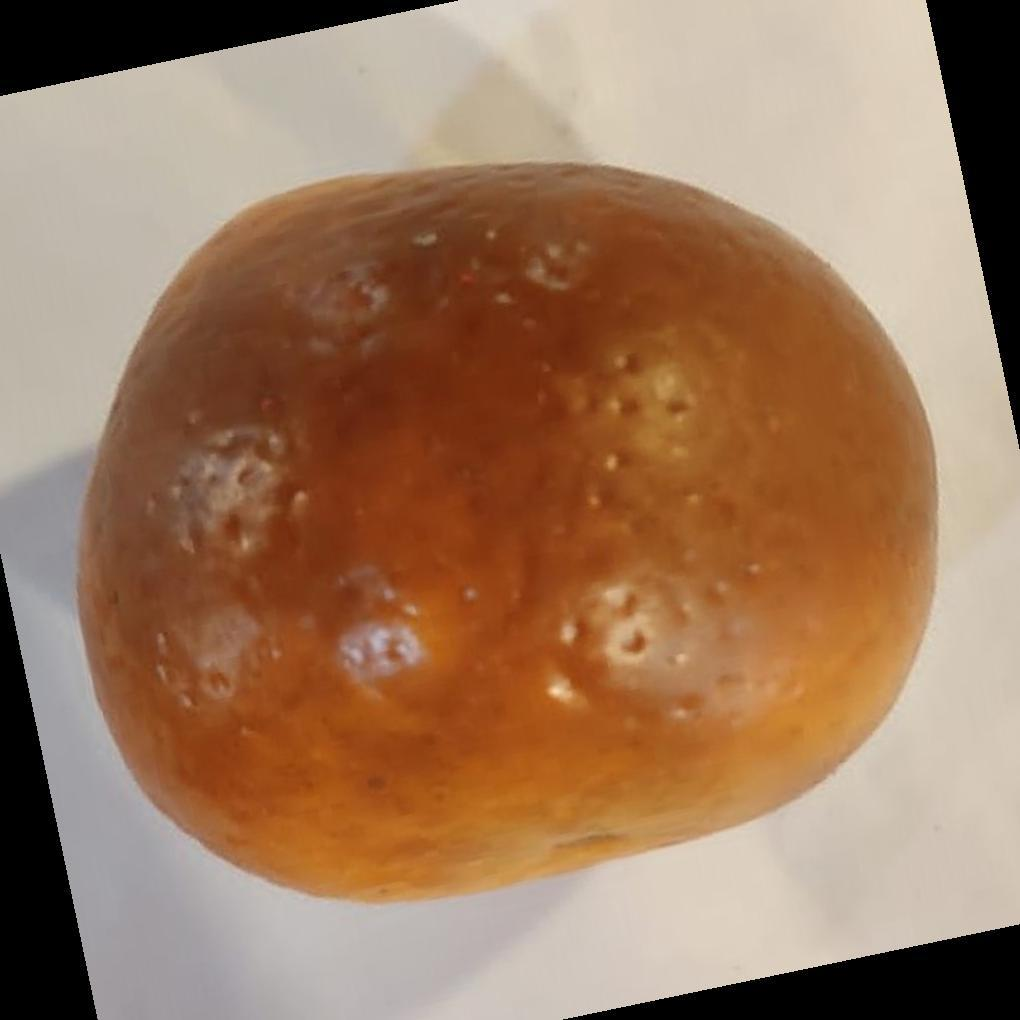FreshOrange: (74, 162, 939, 909)
